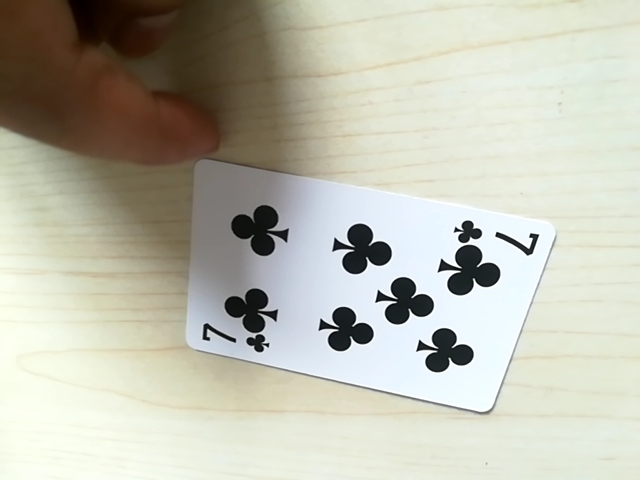mh 7: (197, 318, 271, 356), (455, 218, 531, 251)
